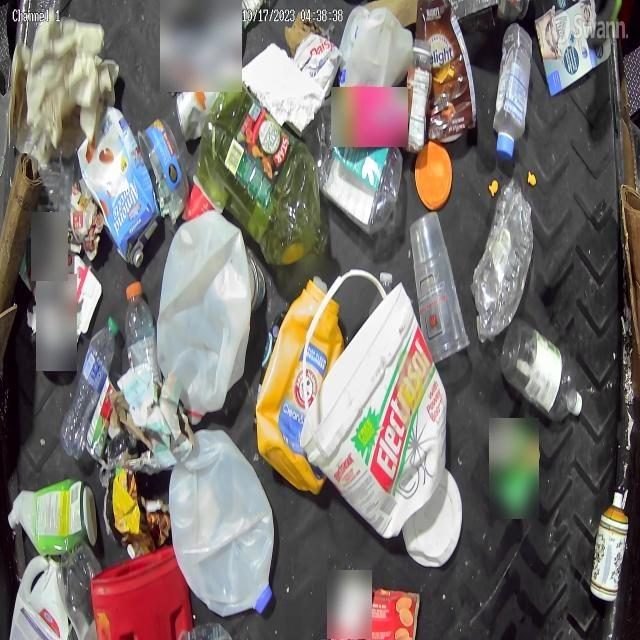milk_jug: (169, 433, 275, 613), (159, 212, 252, 408), (338, 2, 414, 88), (7, 553, 73, 640)
non_white_jug: (304, 286, 449, 522), (255, 274, 345, 496), (76, 107, 160, 268), (92, 547, 193, 640)
plastic_bottle: (500, 318, 582, 423), (60, 316, 118, 460)
